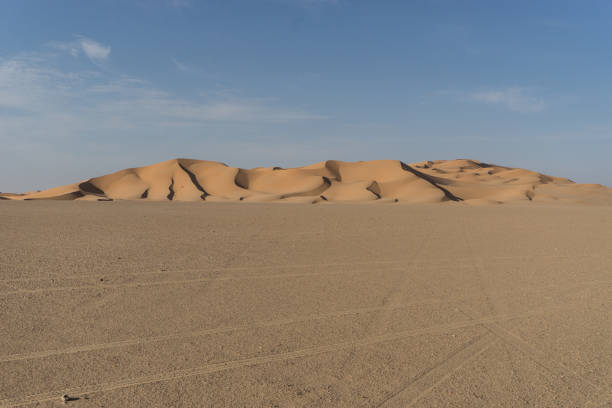vehicle_track: (0, 307, 559, 407), (0, 297, 464, 362), (0, 268, 371, 295), (0, 258, 413, 282), (376, 332, 497, 407)
